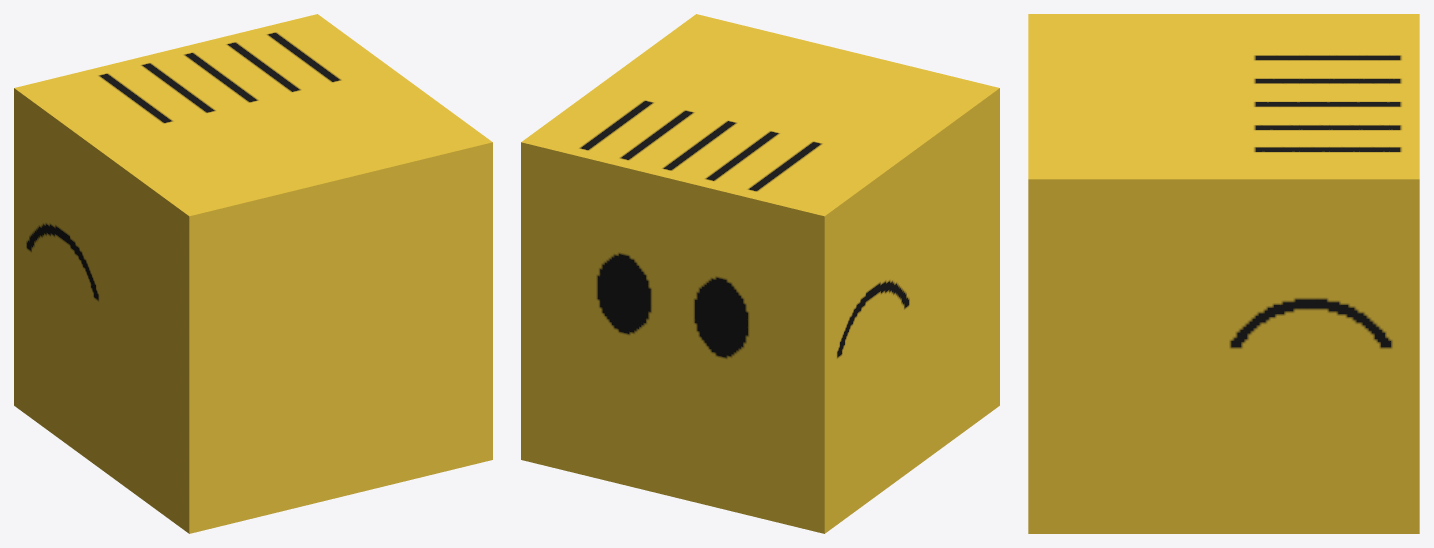
File: sm_test_poly_budget.gltf
3 renders of one model, left to right at view 1: azimuth 30°, elevation 25°; view 2: azimuth 150°, elevation 25°; view 3: azimuth 270°, elevation 25°, orthographic. The views are drawn at different scales.
Visible parts, largest first — view 1: blob; view 2: blob; view 3: blob.
Boxes of the visible parts, x1,y1,x2,y2 form: blob: [14, 14, 492, 533]; blob: [521, 14, 999, 533]; blob: [1028, 14, 1419, 533].
Bounding box in the file's own units: 1 × 1 × 1.
Materials: 1 (1 with a texture image).
